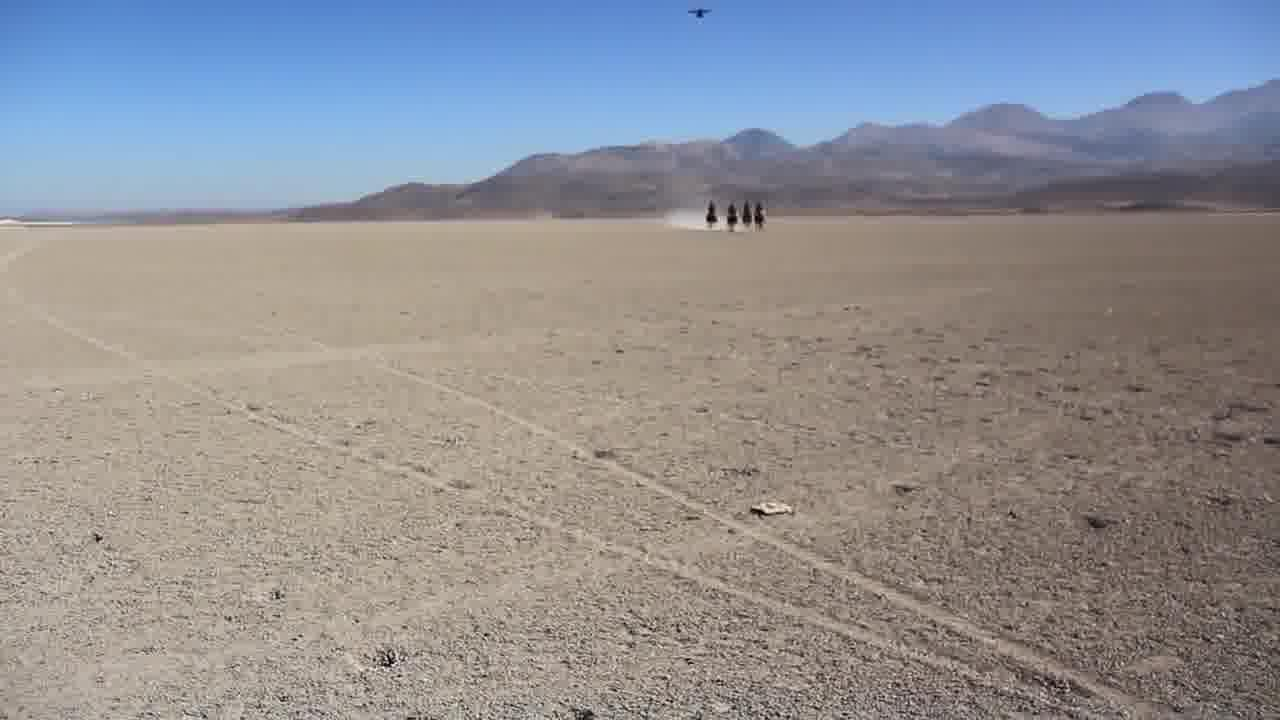drone: (684, 4, 714, 23)
